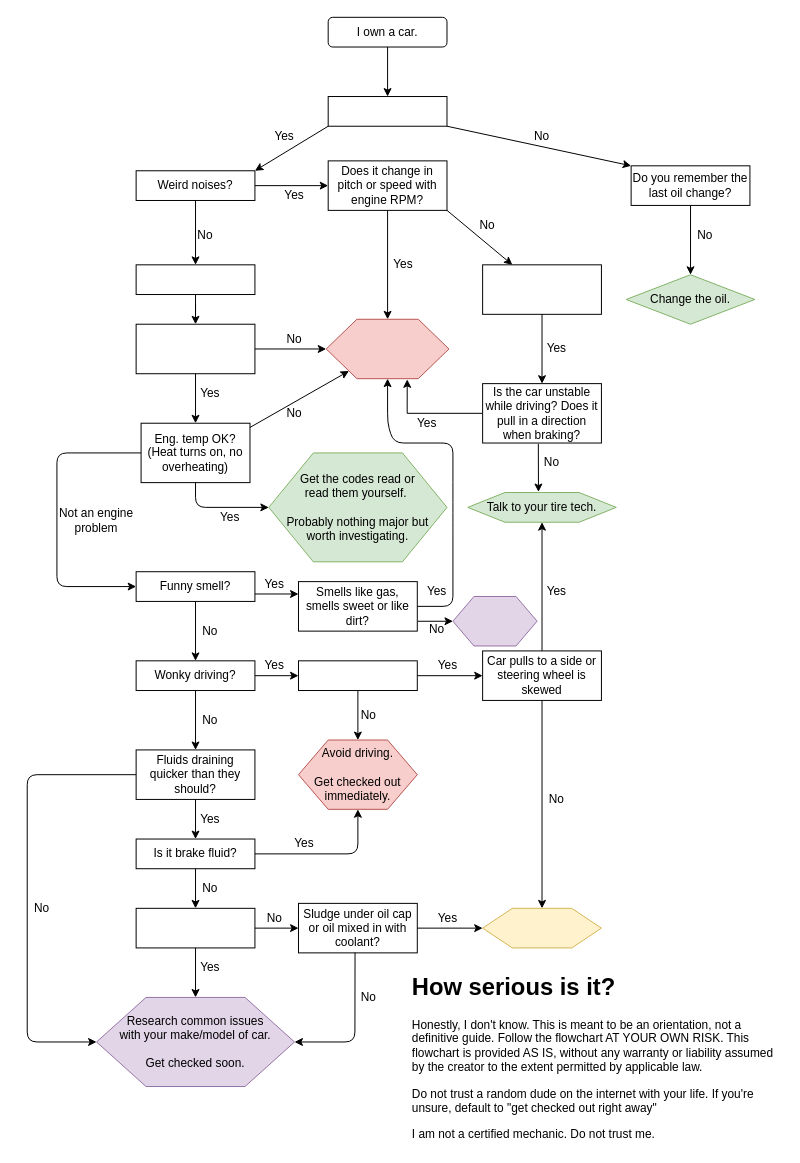
This 800x1163 diagram has some shape labels left out. Each missing label, with the box of its shape:
A detailer can help with that.: (452, 595, 537, 646)
Car stops alright?: (297, 660, 417, 691)
Check Engine Light?: (135, 264, 255, 295)
Does it change with the speed you're driving?: (482, 264, 601, 314)
Does it have issues?: (327, 96, 447, 126)
Engine running OK? (No rough idle, no loss of power etc.): (135, 323, 255, 374)
Get checked soon.: (482, 907, 601, 948)
Get it checked out right away.: (325, 318, 449, 379)
Puddle under the car?: (135, 907, 255, 948)
